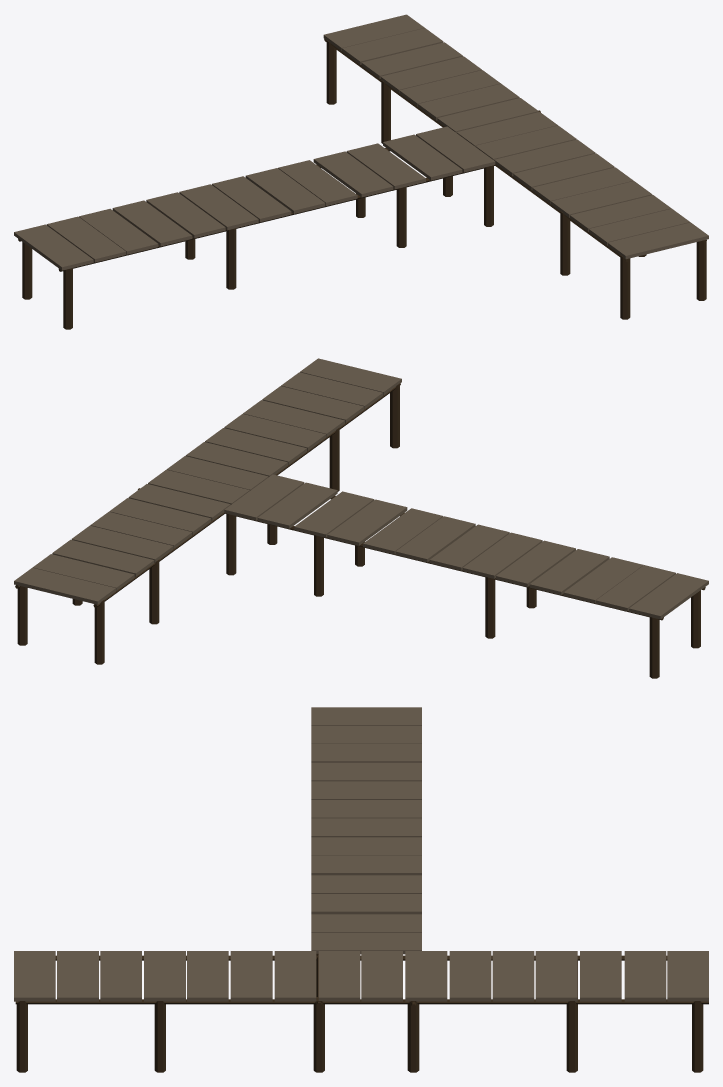
The model's file is dock2.obj.
3 views of the same model, one above another, from view 1: azimuth 30°, elevation 25°; view 2: azimuth 150°, elevation 25°; view 3: azimuth 270°, elevation 25° (orthographic). The views are drawn at different scales.
Visible parts, largest first — view 1: pCylinder25; view 2: pCylinder25; view 3: pCylinder25.
Part boxes in pixels (<box>): pCylinder25: <box>14,14,708,329</box>; pCylinder25: <box>14,358,708,678</box>; pCylinder25: <box>14,707,708,1072</box>.
Size of the model in its own units: 103 by 12.27 by 103.
